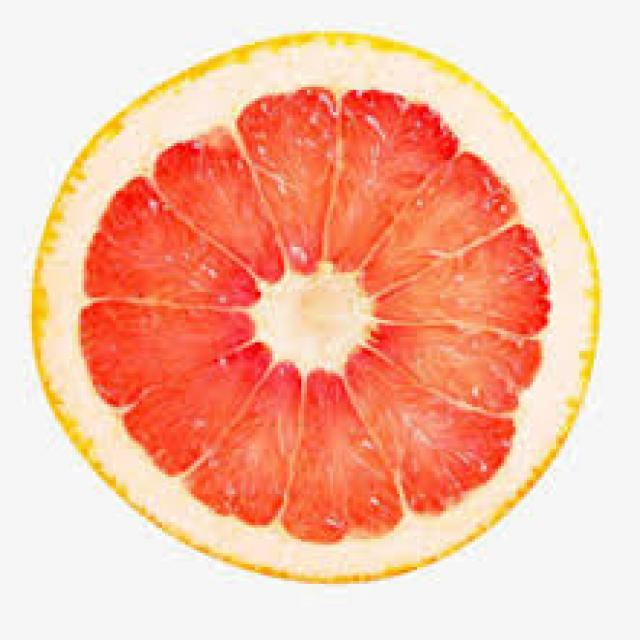organic waste: (26, 25, 597, 581)
